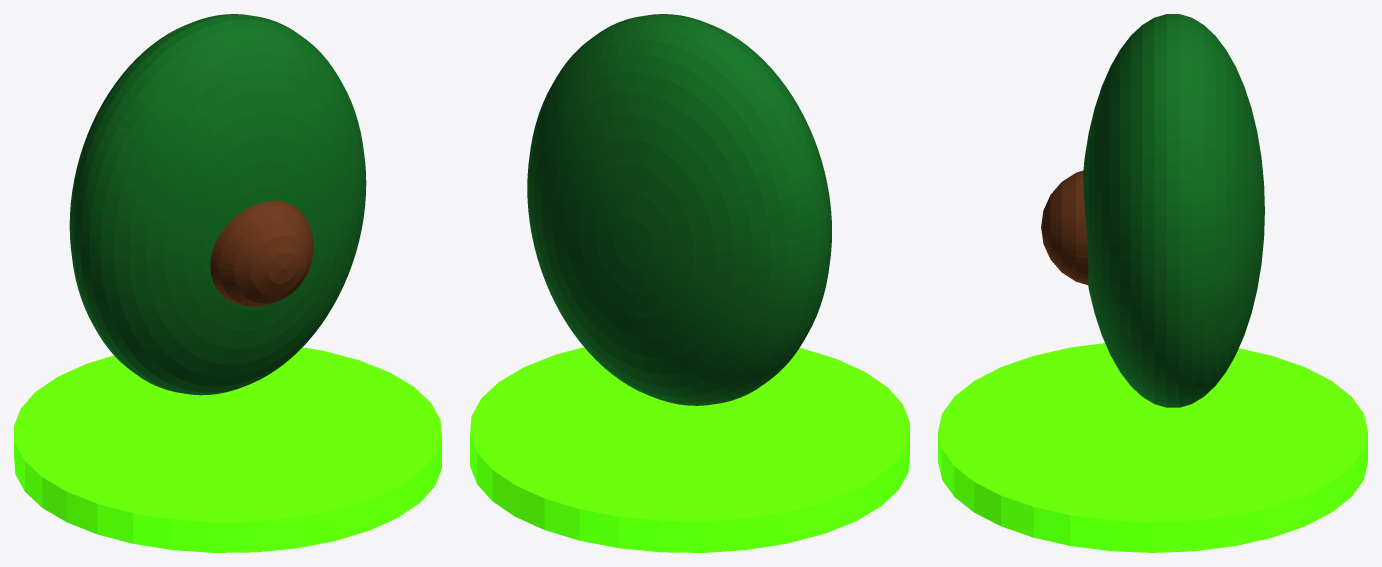
Rendered from food_avocado.dae.
The picture shows the model from 3 angles, left to right: view 1: azimuth 30°, elevation 25°; view 2: azimuth 150°, elevation 25°; view 3: azimuth 270°, elevation 25°; orthographic projection. The views are drawn at different scales.
Parts seen in each view (by area): view 1: 01_15_Popular_Food_Avocado_part_01, 01_15_Popular_Food_Avocado_ROOT_base, 01_15_Popular_Food_Avocado_part_03; view 2: 01_15_Popular_Food_Avocado_part_01, 01_15_Popular_Food_Avocado_ROOT_base; view 3: 01_15_Popular_Food_Avocado_ROOT_base, 01_15_Popular_Food_Avocado_part_01, 01_15_Popular_Food_Avocado_part_03.
Boxes of the visible parts, <box> form: 01_15_Popular_Food_Avocado_part_01: <box>69,14,366,395</box>; 01_15_Popular_Food_Avocado_ROOT_base: <box>14,347,441,552</box>; 01_15_Popular_Food_Avocado_part_03: <box>210,201,313,306</box>; 01_15_Popular_Food_Avocado_part_01: <box>527,14,831,405</box>; 01_15_Popular_Food_Avocado_ROOT_base: <box>470,347,909,552</box>; 01_15_Popular_Food_Avocado_ROOT_base: <box>938,343,1367,552</box>; 01_15_Popular_Food_Avocado_part_01: <box>1083,14,1264,407</box>; 01_15_Popular_Food_Avocado_part_03: <box>1041,170,1088,284</box>.
Size of the model in its own units: 0.76 by 0.85 by 0.76.
